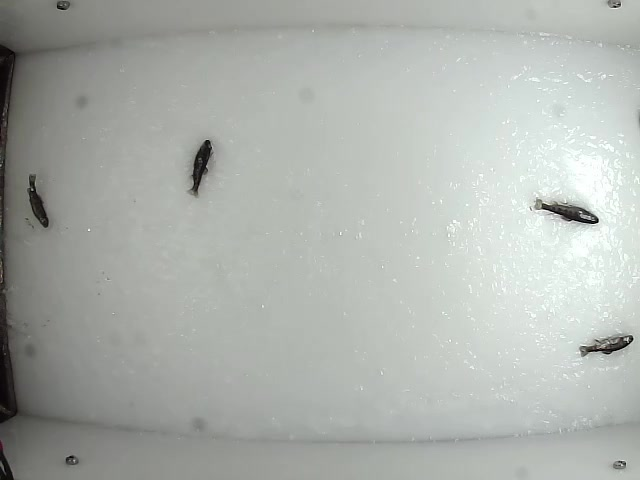fish: (531, 196, 600, 226), (184, 137, 215, 200), (577, 330, 634, 358), (24, 172, 51, 229)
